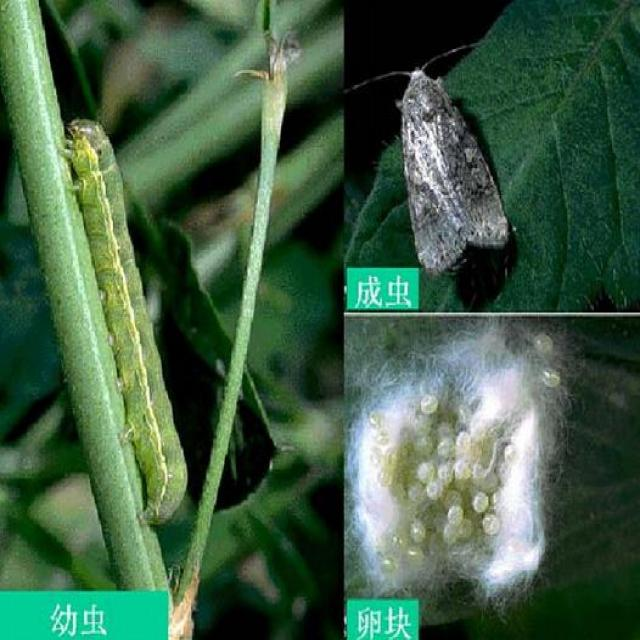BeetArmyWorm-Larva-: (58, 106, 198, 534)
